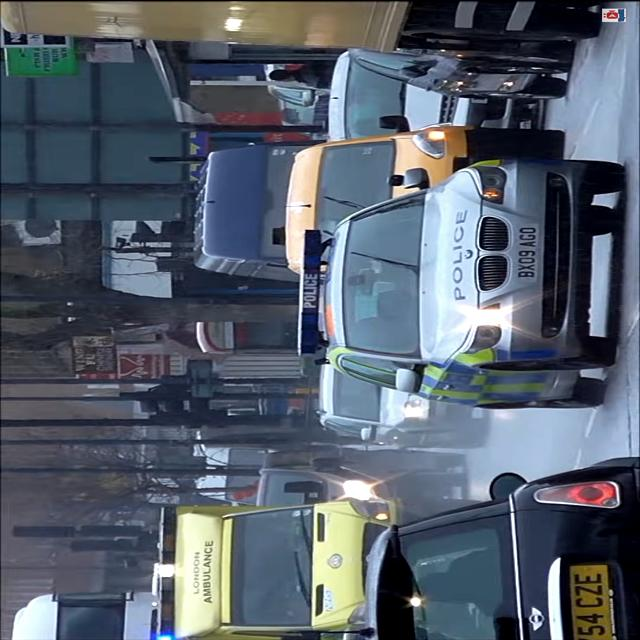emergency-vehicles: (280, 146, 632, 426)
